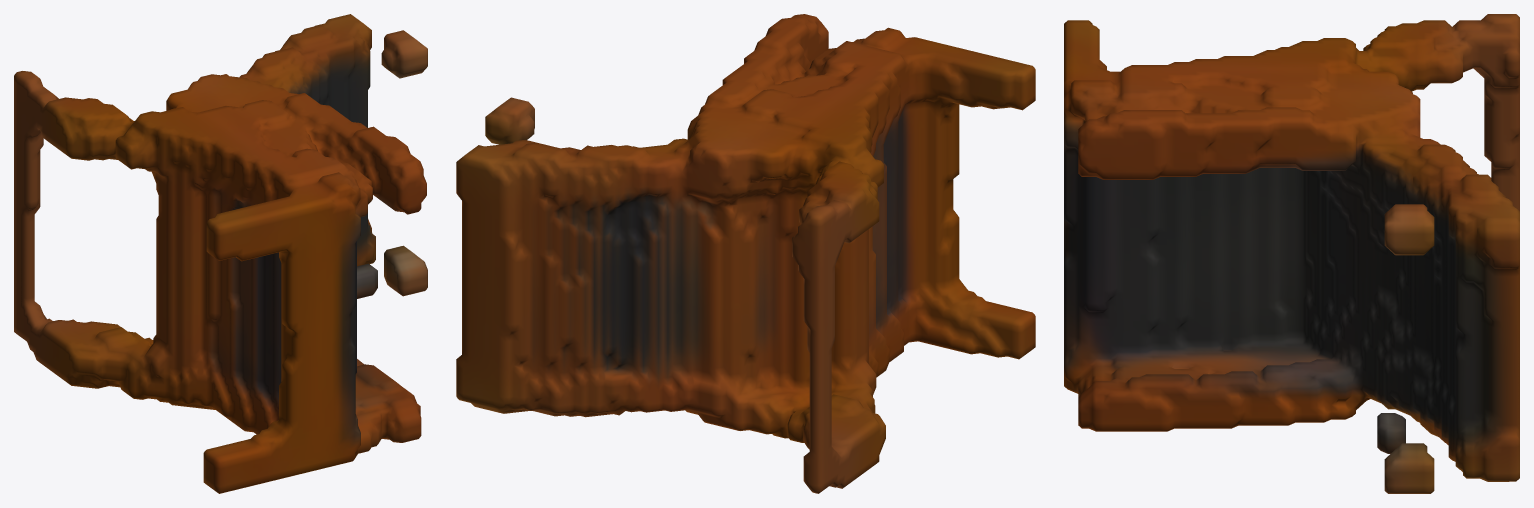
File: A brown wooden chair with a black cushion, four le.glb
3 views of the same model, side by side, from view 1: azimuth 30°, elevation 25°; view 2: azimuth 150°, elevation 25°; view 3: azimuth 270°, elevation 25° (orthographic). The views are drawn at different scales.
Parts seen in each view (by area): view 1: A brown wooden chair with a black cushion, four le; view 2: A brown wooden chair with a black cushion, four le; view 3: A brown wooden chair with a black cushion, four le.
Part boxes in pixels (bbox=[...]): A brown wooden chair with a black cushion, four le: bbox=[14, 14, 427, 493]; A brown wooden chair with a black cushion, four le: bbox=[456, 14, 1035, 493]; A brown wooden chair with a black cushion, four le: bbox=[1064, 14, 1519, 493].
Size of the model in its own units: 64 by 48 by 64.
